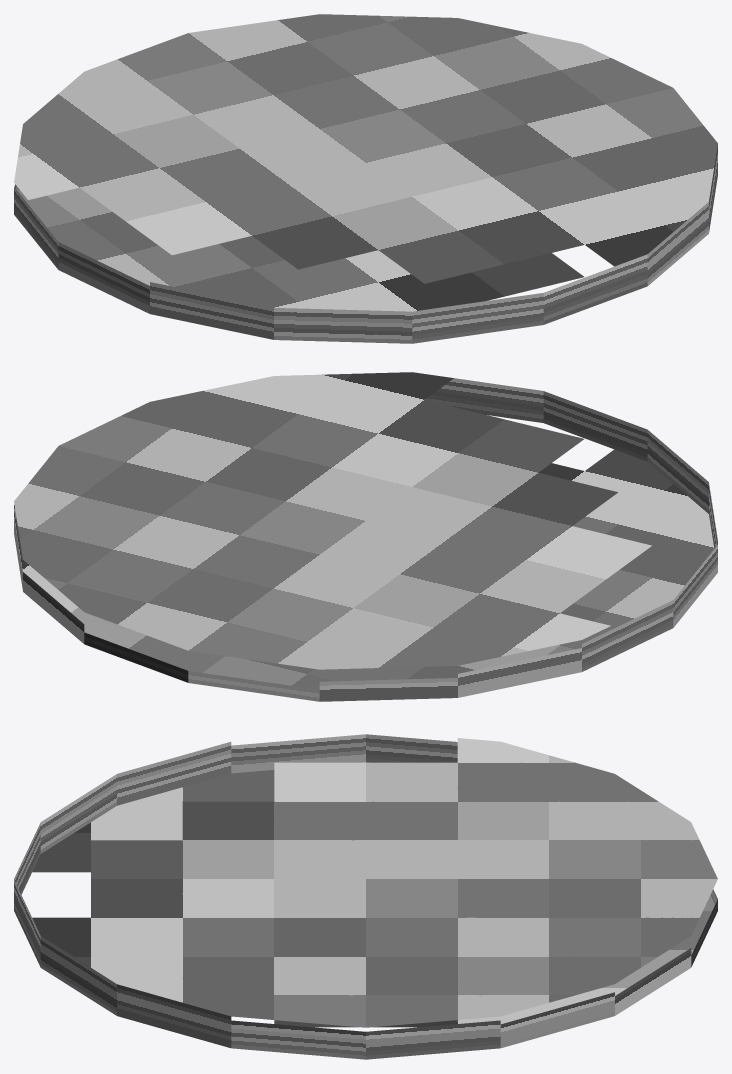
Rendered from coin.obj.
The picture shows the model from 3 angles, top to bottom: view 1: azimuth 30°, elevation 25°; view 2: azimuth 150°, elevation 25°; view 3: azimuth 270°, elevation 25°; orthographic projection.
Parts seen in each view (by area): view 1: 柱体; view 2: 柱体; view 3: 柱体.
Part boxes in pixels (bbox=[...]): 柱体: bbox=[14, 14, 717, 343]; 柱体: bbox=[14, 372, 717, 701]; 柱体: bbox=[14, 734, 717, 1059].
Bounding box in the file's own units: 0.3 × 0.015 × 0.3.
